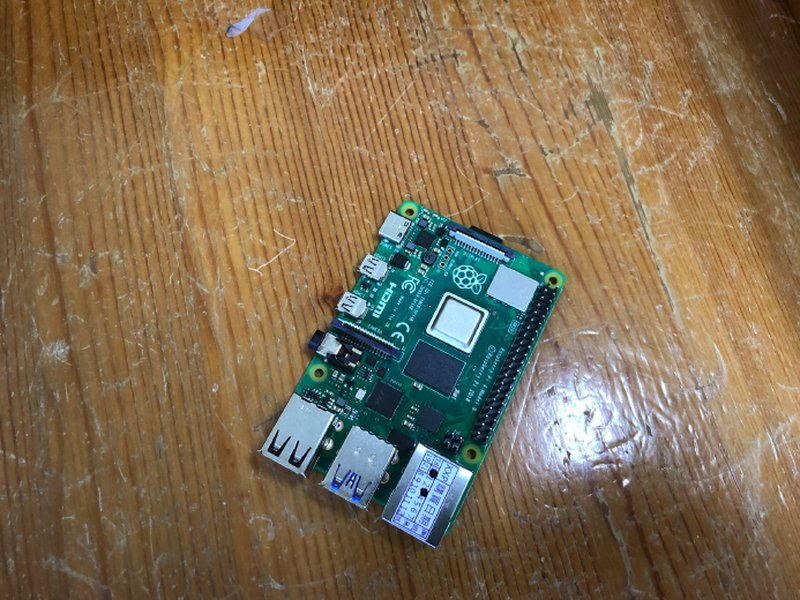pi: (254, 195, 568, 555)
